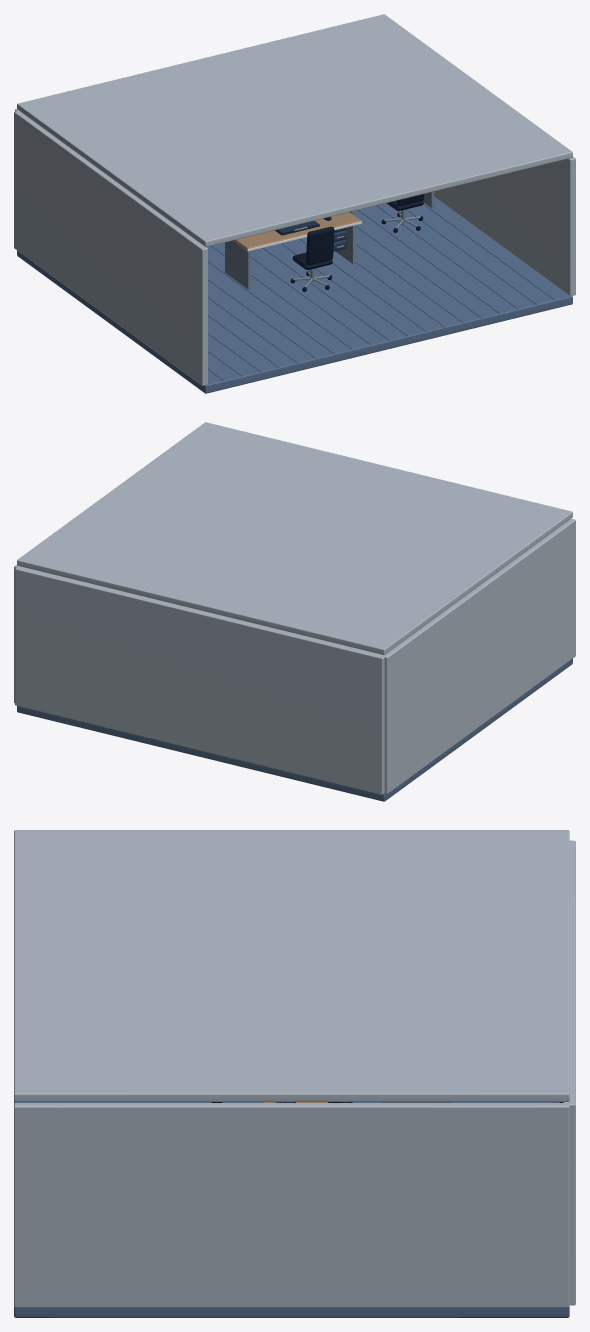
Rendered from office.glb.
3 views of the same model, one above another, from view 1: azimuth 30°, elevation 25°; view 2: azimuth 150°, elevation 25°; view 3: azimuth 270°, elevation 25° (orthographic). The views are drawn at different scales.
Parts seen in each view (by area): view 1: Ceiling, Floor, Left wall, Right wall, Desk top, Desk leg, Chair backrest; view 2: Ceiling, Back wall, Left wall, Floor; view 3: Ceiling, Right wall, Floor, Back wall.
Boxes of the visible parts, <box> form: Ceiling: <box>17,14,572,246</box>; Floor: <box>17,197,572,393</box>; Left wall: <box>14,111,207,385</box>; Right wall: <box>434,157,575,296</box>; Desk top: <box>233,212,361,250</box>; Desk leg: <box>225,240,250,289</box>; Chair backrest: <box>306,226,334,264</box>; Ceiling: <box>17,422,572,654</box>; Back wall: <box>15,566,384,794</box>; Left wall: <box>383,518,575,793</box>; Floor: <box>17,658,572,801</box>; Ceiling: <box>14,830,569,1101</box>; Right wall: <box>14,1103,569,1307</box>; Floor: <box>14,1101,569,1317</box>; Back wall: <box>563,840,575,1305</box>.
Size of the model in its own units: 9.15 by 3.57 by 8.09.
